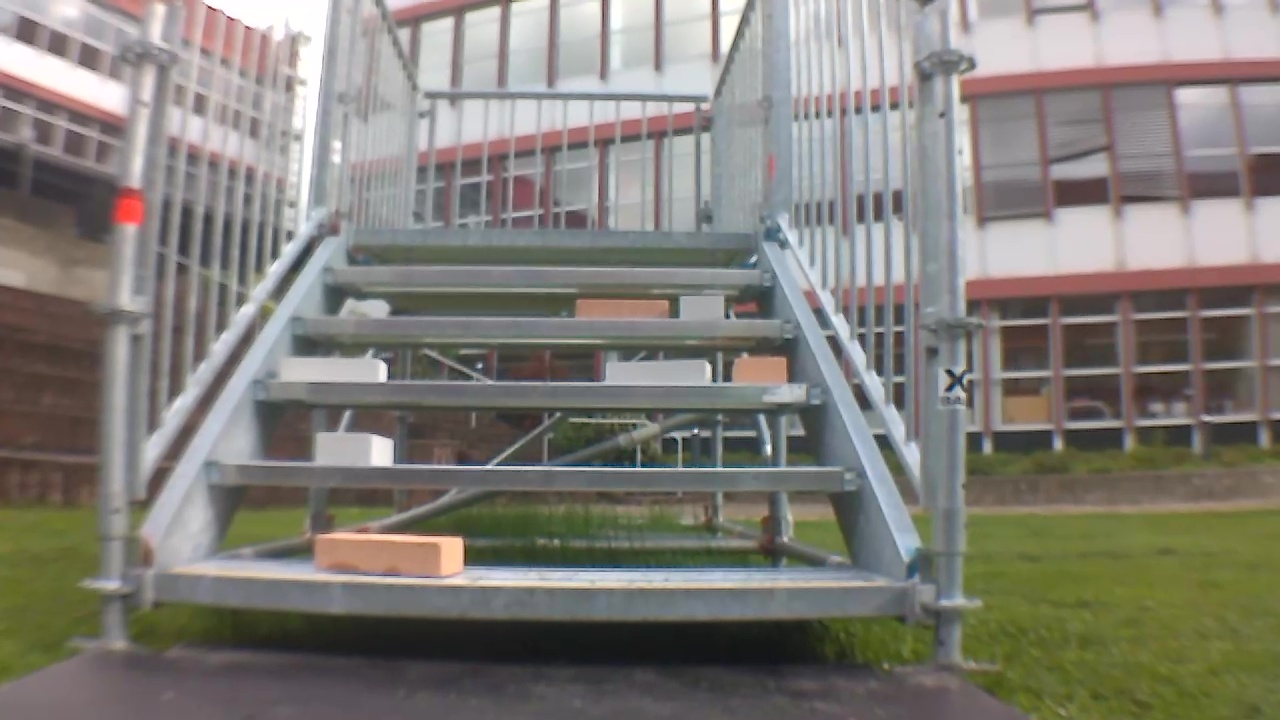brick: (315, 531, 463, 577), (278, 357, 389, 381), (316, 434, 393, 464), (608, 362, 712, 384), (578, 299, 667, 318), (734, 358, 784, 382), (679, 295, 721, 319)
edge: (157, 576, 907, 617), (211, 462, 862, 491), (255, 382, 830, 405), (290, 316, 798, 336), (326, 265, 775, 286), (350, 230, 755, 249)
stairs: (85, 4, 998, 668)
steps: (146, 222, 921, 630)
